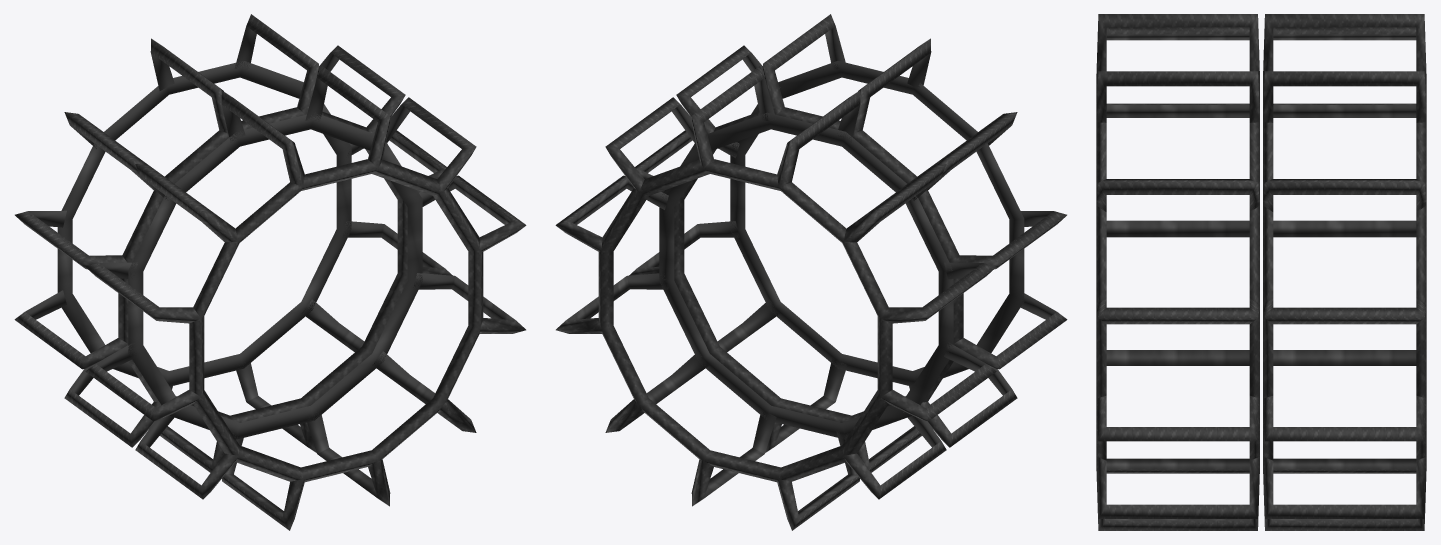
The model's file is ATAPetyarbuiltWheels2.fbx.
The picture shows the model from 3 angles, left to right: view 1: azimuth 30°, elevation 25°; view 2: azimuth 150°, elevation 25°; view 3: azimuth 270°, elevation 25°; orthographic projection. The views are drawn at different scales.
Visible parts, largest first — view 1: chaintires; view 2: chaintires; view 3: chaintires.
Part boxes in pixels (x1,y1,x2,y2): chaintires: (14,14,526,530); chaintires: (555,14,1067,530); chaintires: (1096,14,1426,530).
Bounding box in the file's own units: 19.83 × 30.44 × 30.44.
